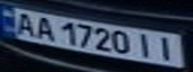0: (112, 28, 133, 56)
1: (54, 19, 78, 46)
2: (90, 25, 115, 53)
7: (72, 21, 93, 48)
A: (9, 10, 39, 37), (30, 13, 57, 42)
I: (151, 34, 181, 62), (133, 30, 157, 60)
